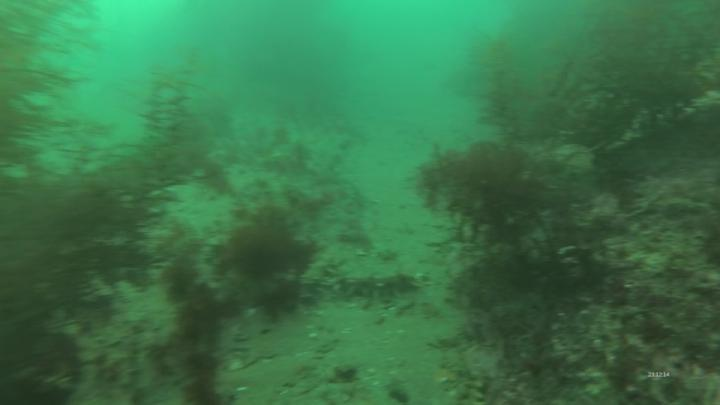holothurian: (333, 270, 430, 313)
waterweeds: (1, 1, 212, 405), (414, 10, 720, 257), (164, 195, 318, 331)
